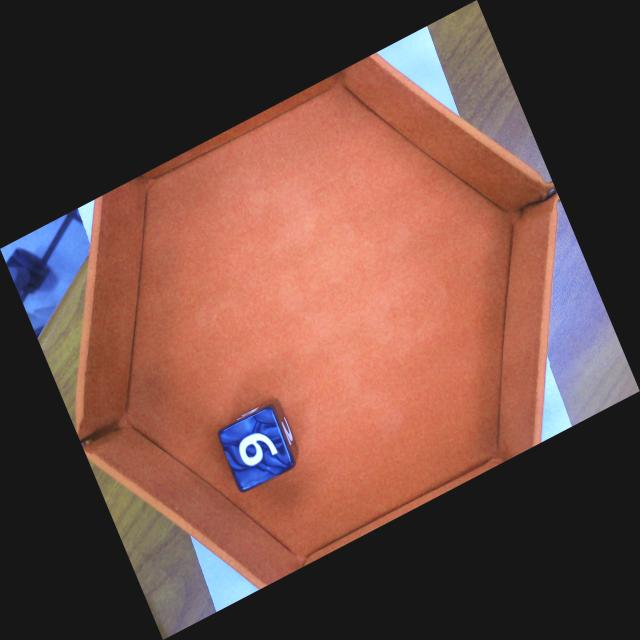dice: (217, 405, 295, 493)
